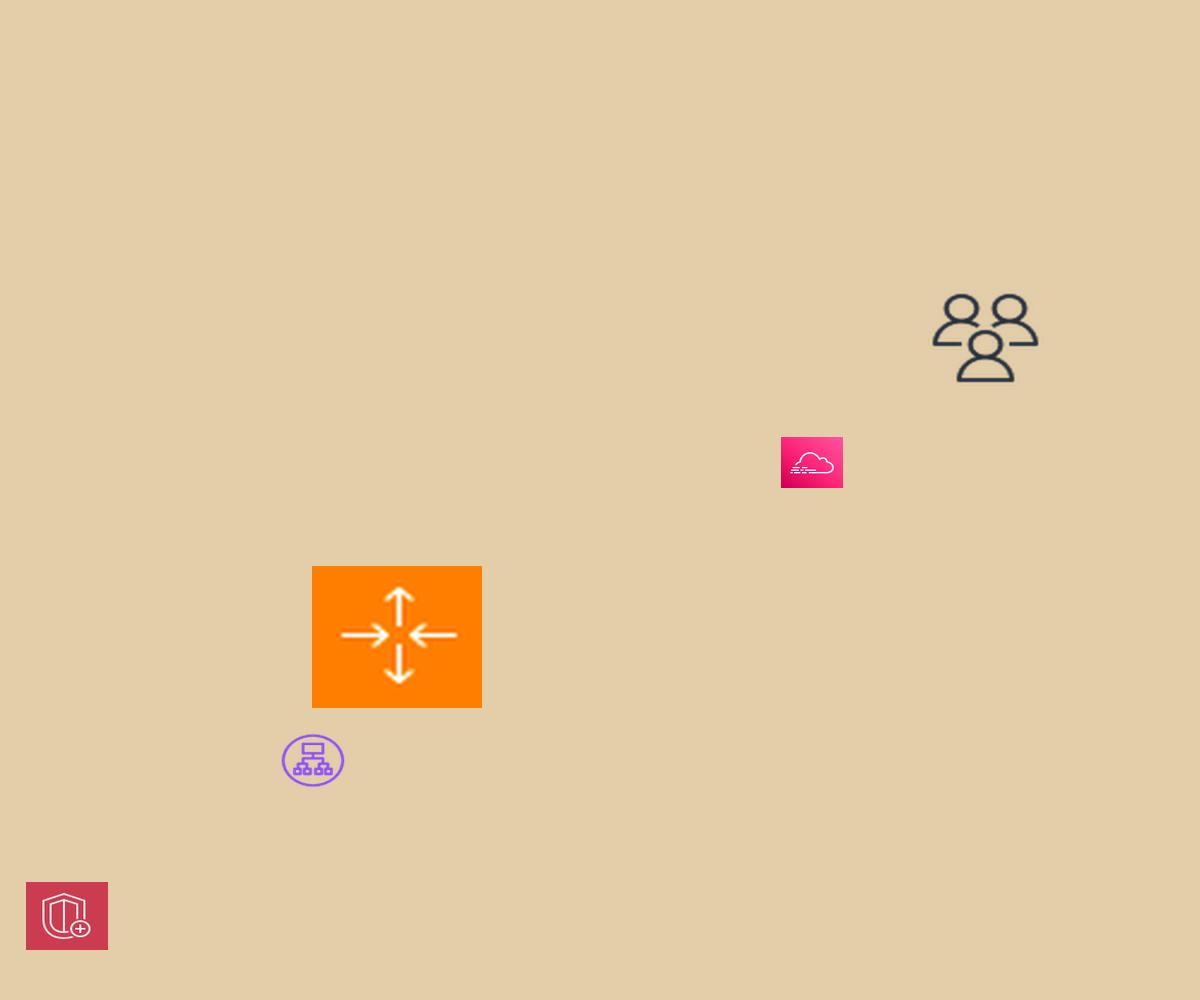AWS-CloudTrail: (781, 437, 843, 488)
AWS-Res_Elastic-Load-Balancing_Application-Load-Balancer: (279, 732, 347, 789)
AWS-Res_Users: (928, 290, 1043, 386)
AWS-Scaling-group: (312, 566, 482, 708)
AWS-Shield: (26, 882, 108, 950)
